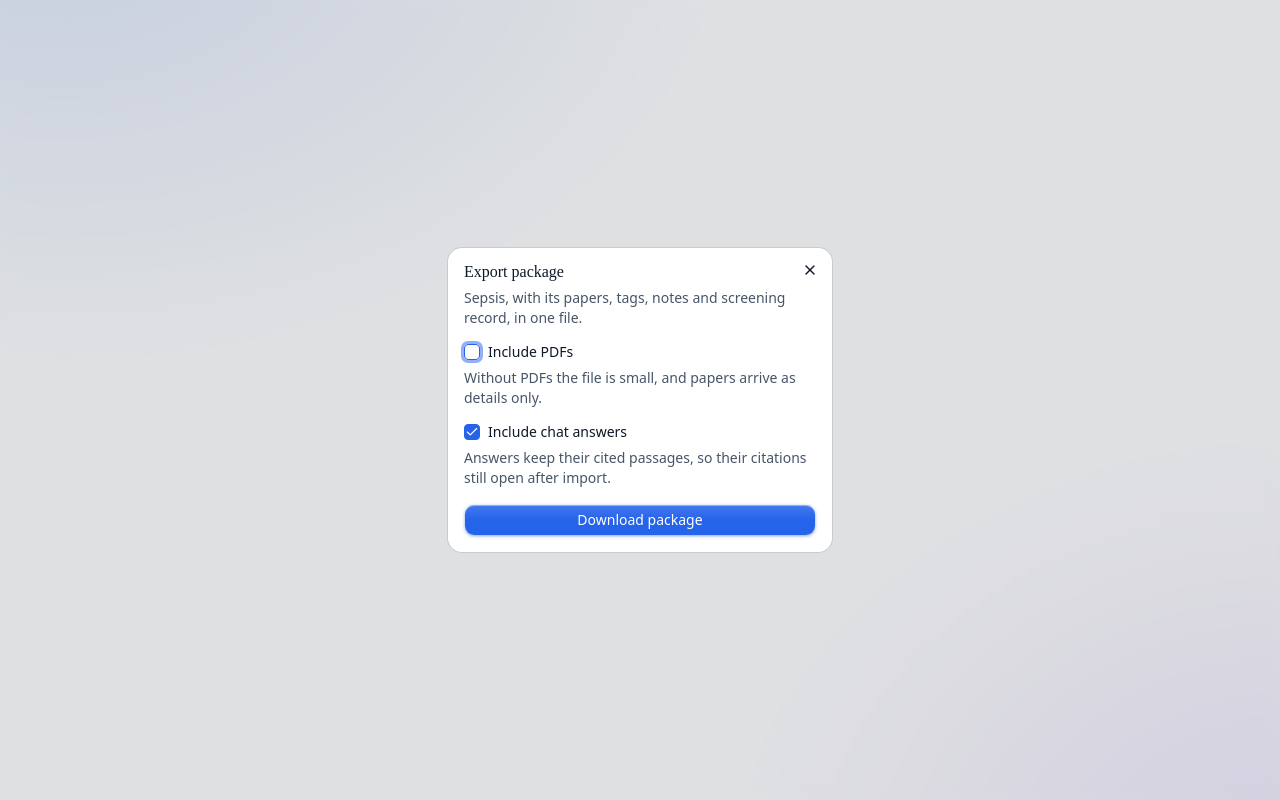
Test: a package that is too large with its PDFs says so and offers no download
Click the checkbox named "Include PDFs" next to "Include PDFs". click: (472, 352)
box: [464,344,480,360]
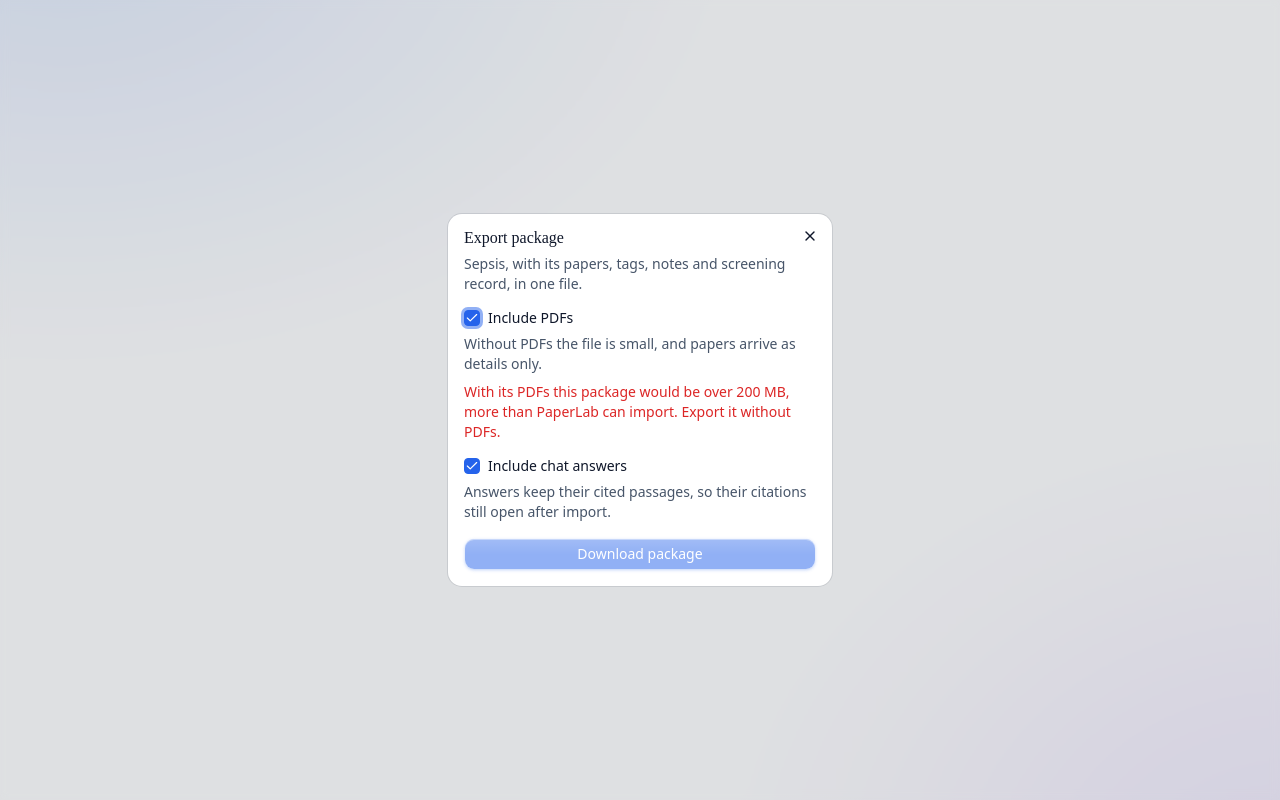
Result: the text "With its PDFs this package would be over 200 MB, more than PaperLab can import. Export it without PDFs." is shown at [464,382,791,441]
